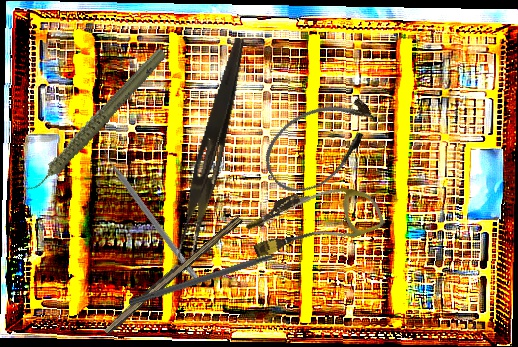Cannula: (252, 81, 390, 206), (241, 167, 386, 273)
Dressing Forceps: (175, 34, 249, 263)
Handpiece: (0, 46, 190, 195)
Hook Surgical: (127, 243, 302, 308)
Scalpel Handle: (101, 211, 243, 338)
Spatula Surgical: (96, 144, 205, 281)
